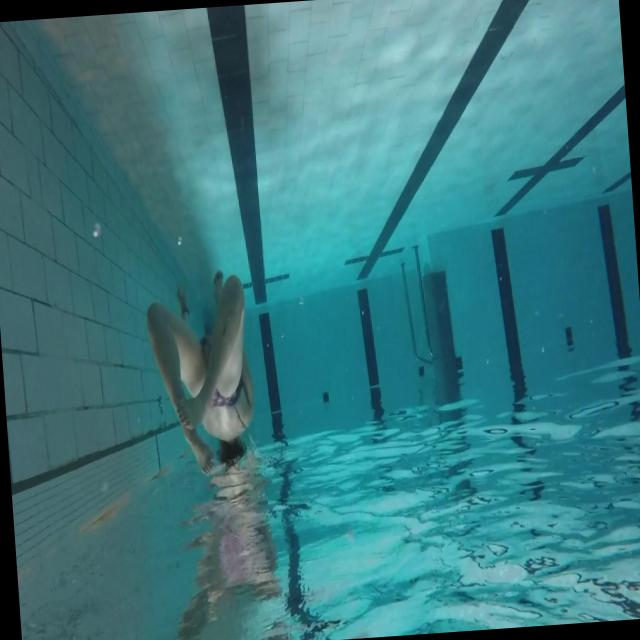human: (143, 269, 260, 480)
